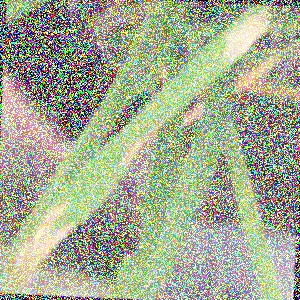Brown_Spot: (0, 195, 68, 282), (112, 118, 161, 162)
